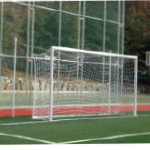goals: (30, 44, 140, 126)
